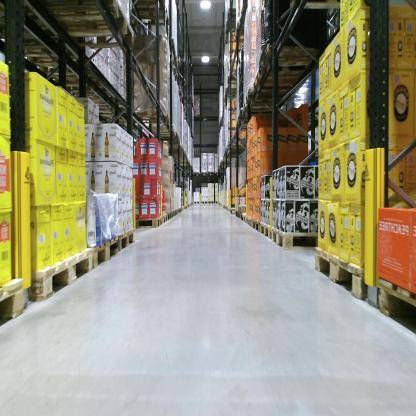pallets: (29, 228, 136, 302), (222, 204, 317, 253), (313, 248, 368, 301), (0, 269, 28, 339), (376, 278, 415, 321), (134, 202, 192, 229), (191, 197, 232, 210)
